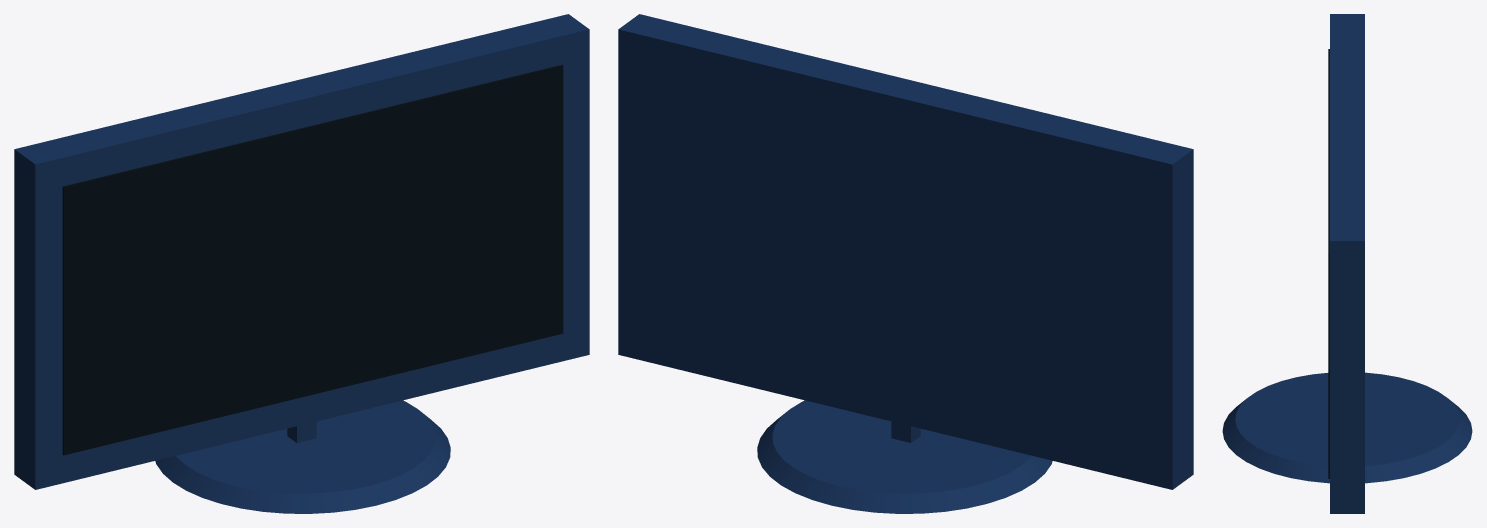
The picture shows the model from 3 angles, left to right: view 1: azimuth 30°, elevation 25°; view 2: azimuth 150°, elevation 25°; view 3: azimuth 270°, elevation 25°; orthographic projection. The views are drawn at different scales.
Visible parts, largest first — view 1: tv; view 2: tv; view 3: tv.
Part boxes in pixels (bbox=[...]): tv: bbox=[14, 14, 589, 513]; tv: bbox=[618, 14, 1193, 513]; tv: bbox=[1222, 14, 1472, 513].
Size of the model in its own units: 3.35 by 2.09 by 1.56.
